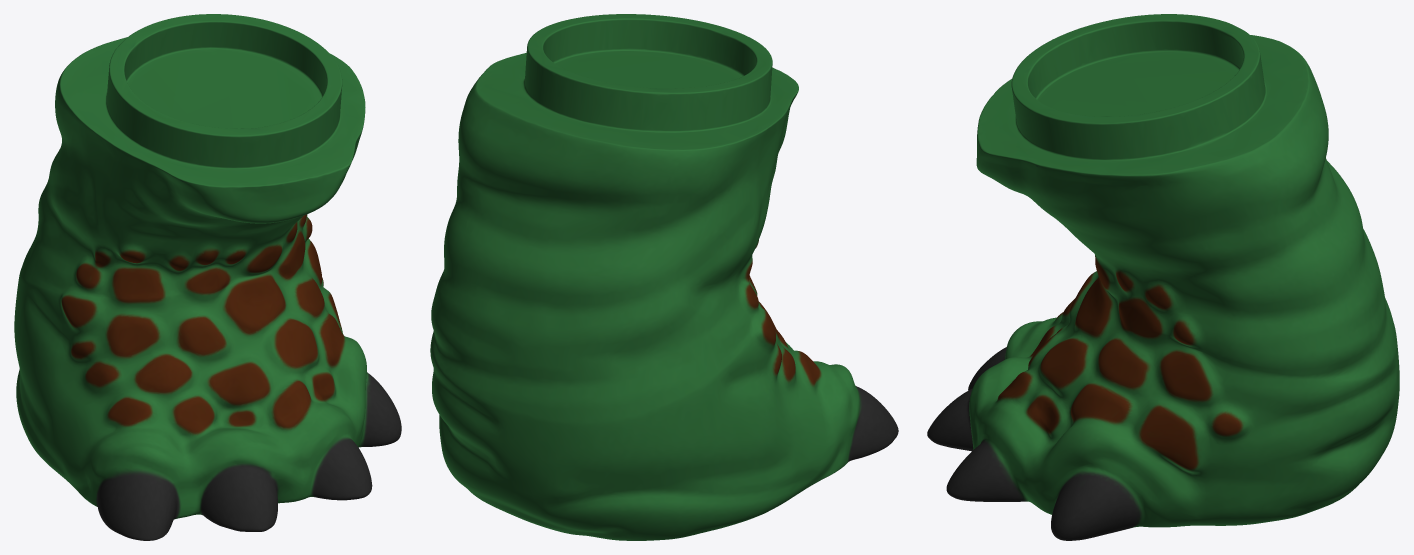
Rendered from Patte_Tortue_rg.glb.
3 views of the same model, side by side, from view 1: azimuth 30°, elevation 25°; view 2: azimuth 150°, elevation 25°; view 3: azimuth 270°, elevation 25° (orthographic). The views are drawn at different scales.
Visible parts, largest first — view 1: Patte_Tortue_rg; view 2: Patte_Tortue_rg; view 3: Patte_Tortue_rg.
Boxes of the visible parts, left/top/right/bottom form: Patte_Tortue_rg: left=14, top=14, right=401, bottom=540; Patte_Tortue_rg: left=430, top=14, right=898, bottom=540; Patte_Tortue_rg: left=927, top=14, right=1399, bottom=540.
Size of the model in its own units: 1.94 by 2.26 by 2.34.
